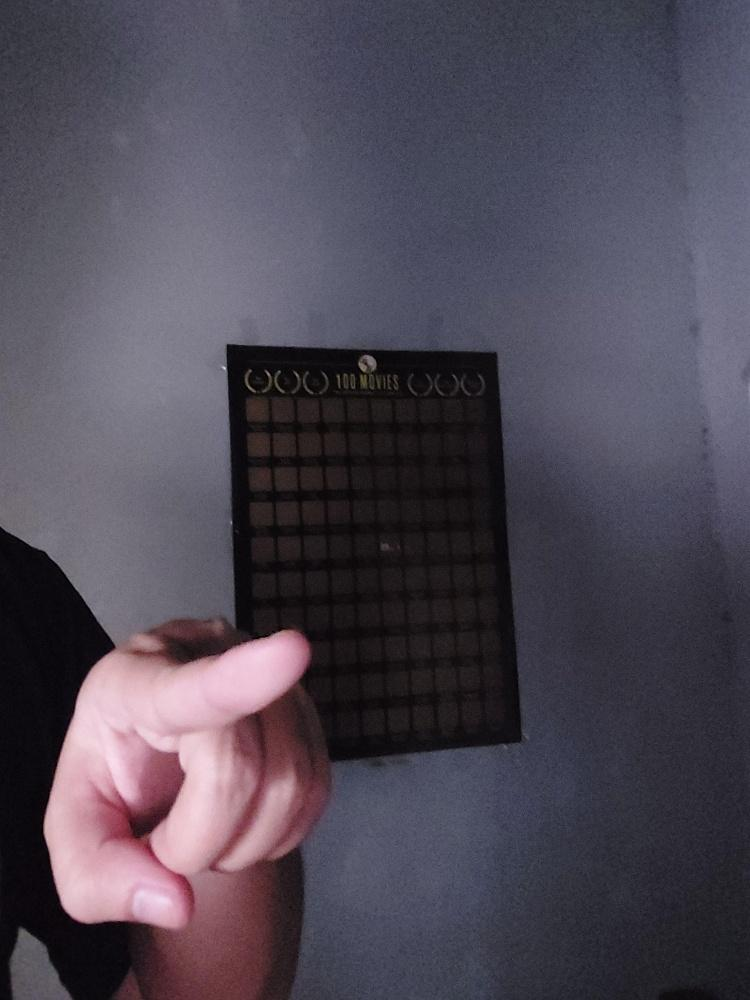z: (39, 613, 335, 930)
